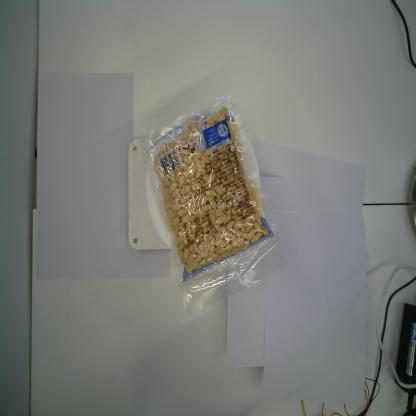Dried Fruit: (139, 91, 289, 314)
